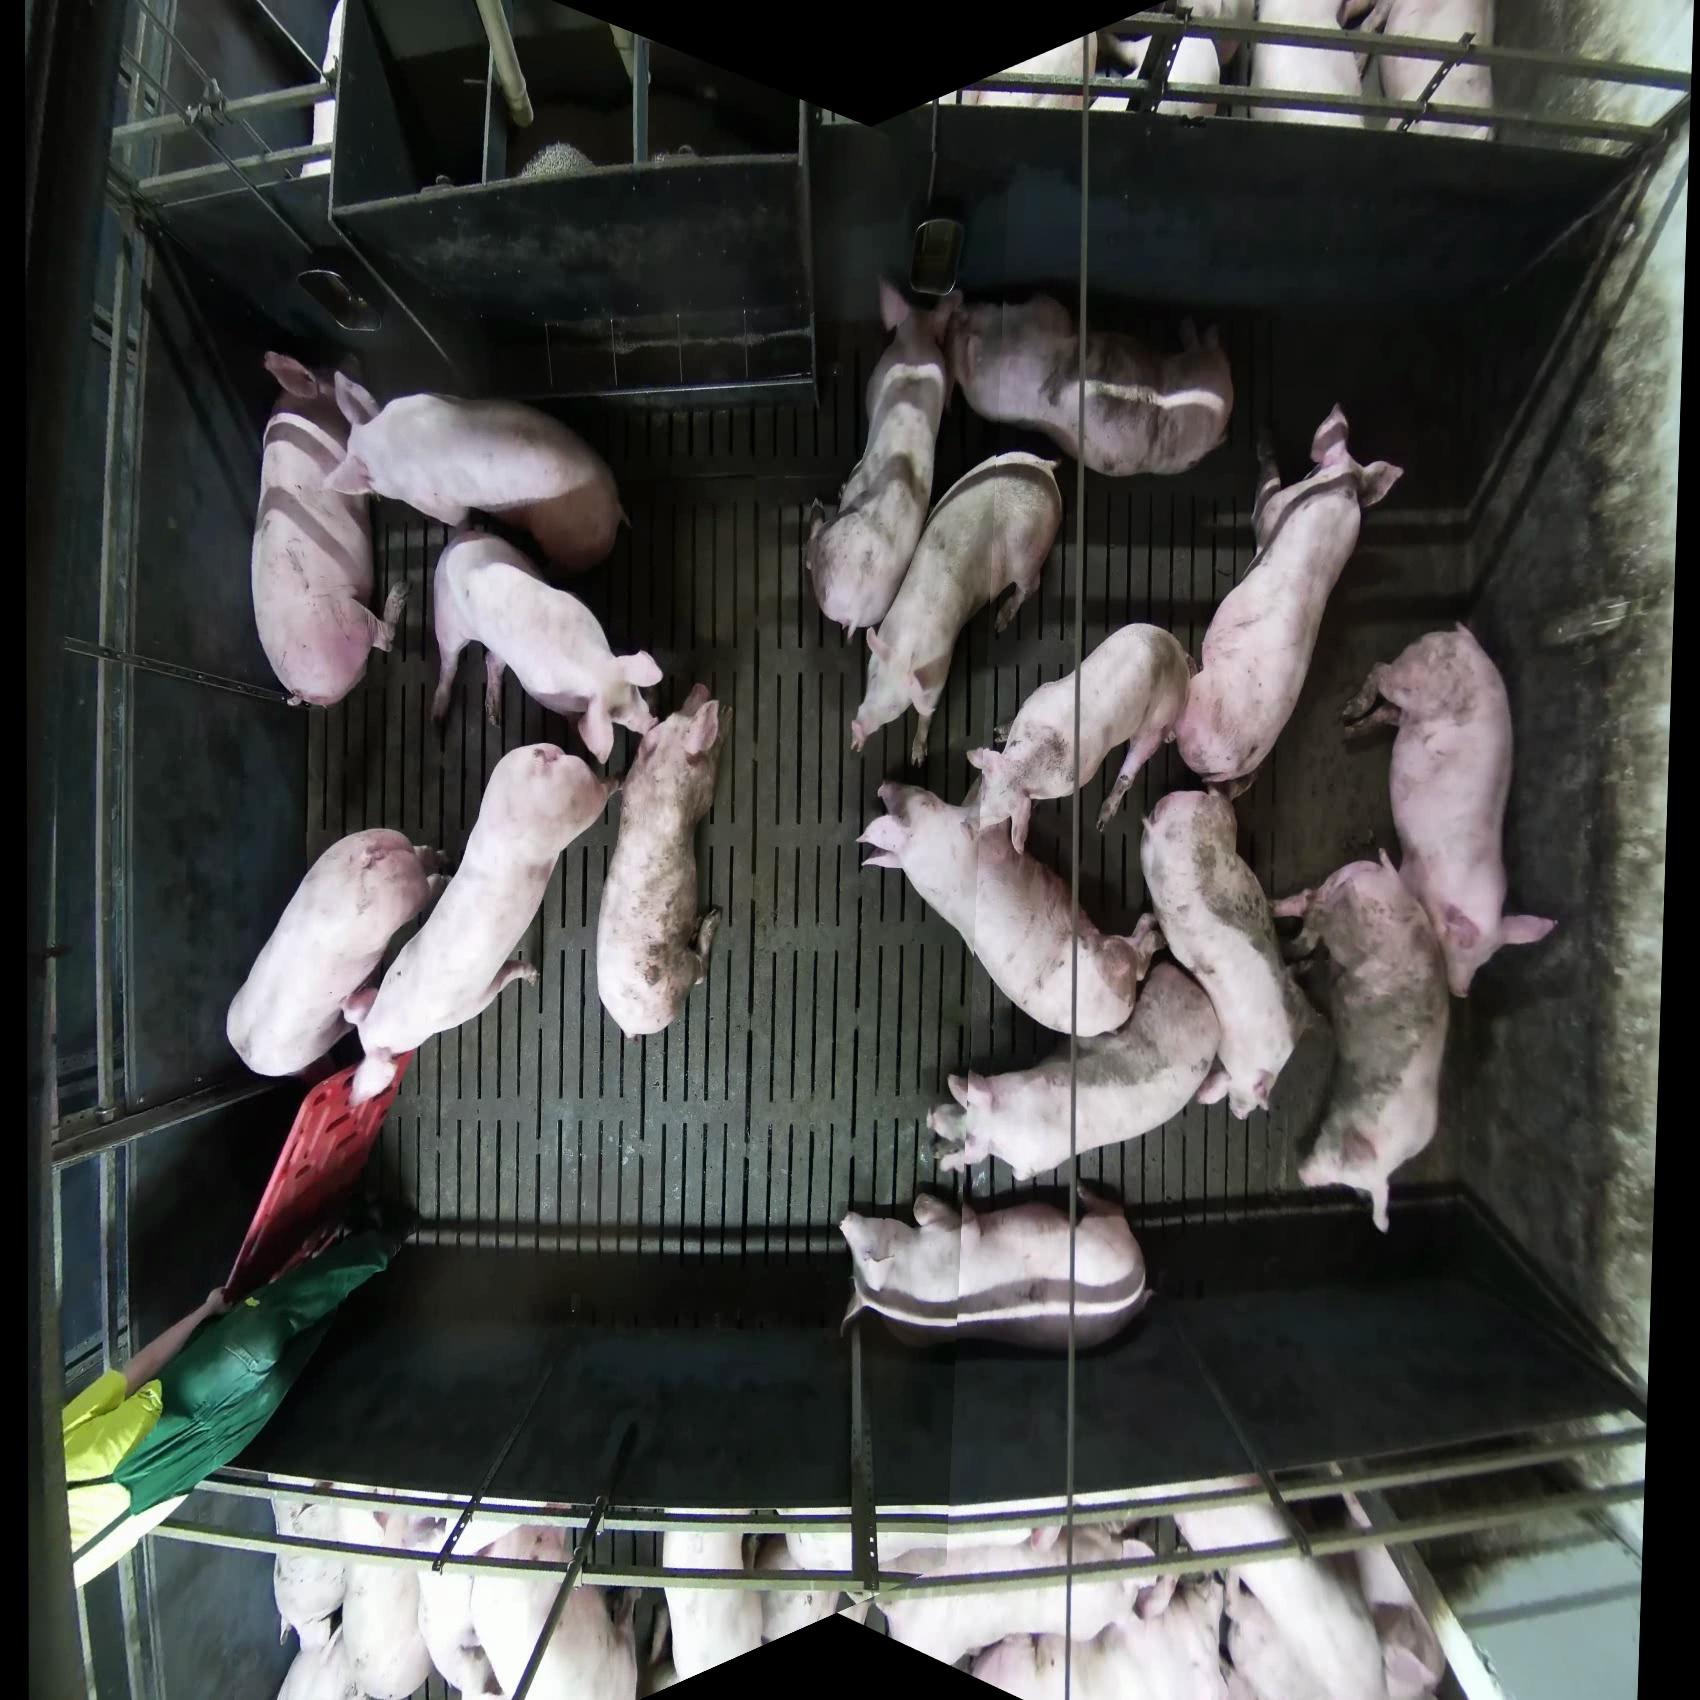pig: (268, 1488, 1451, 1700), (343, 741, 617, 1110), (1172, 401, 1406, 800), (1338, 620, 1558, 1001), (855, 771, 1164, 1040), (1272, 847, 1453, 1235), (927, 956, 1223, 1188), (847, 450, 1065, 766), (1138, 787, 1312, 1122), (804, 274, 961, 645), (428, 531, 664, 771), (224, 826, 449, 1079), (249, 350, 405, 711), (327, 388, 628, 574), (944, 288, 1236, 479), (837, 1177, 1152, 1353), (964, 621, 1197, 855), (594, 681, 726, 1041), (216, 1061, 403, 1309), (868, 1522, 1159, 1669), (270, 1492, 446, 1699), (963, 1568, 1235, 1700), (469, 1521, 640, 1699), (1193, 1, 1381, 129), (1343, 1, 1498, 142), (658, 1525, 765, 1686)
worker: (60, 1217, 403, 1590)
